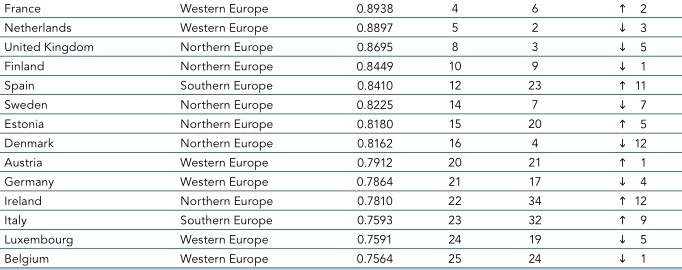column: (179, 1, 273, 270), (4, 1, 94, 270), (355, 1, 395, 269), (528, 1, 545, 270), (447, 2, 463, 270), (635, 1, 646, 268), (619, 1, 628, 270)
row: (1, 80, 682, 93), (1, 233, 682, 246), (1, 3, 682, 15), (1, 21, 682, 33), (1, 60, 682, 72), (1, 99, 682, 111), (1, 119, 682, 131), (1, 137, 682, 149), (1, 194, 682, 206), (1, 214, 682, 226), (1, 252, 682, 264), (1, 41, 682, 52), (1, 158, 682, 168), (1, 177, 682, 187)
